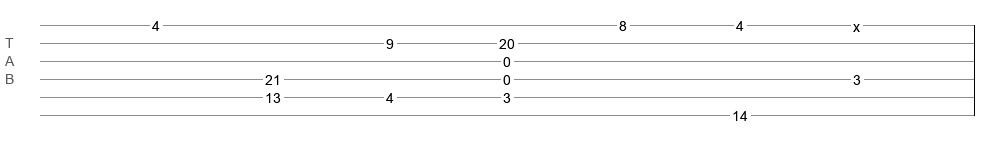0: (503, 54, 511, 64), (503, 72, 511, 82)
13: (265, 90, 281, 100)
14: (732, 108, 748, 118)
20: (499, 36, 515, 46)
21: (265, 72, 281, 82)
3: (503, 90, 511, 100), (853, 72, 861, 82)
4: (152, 18, 160, 28), (386, 90, 394, 100), (736, 18, 744, 28)
8: (619, 18, 627, 28)
9: (386, 36, 394, 46)
x: (853, 19, 860, 27)
